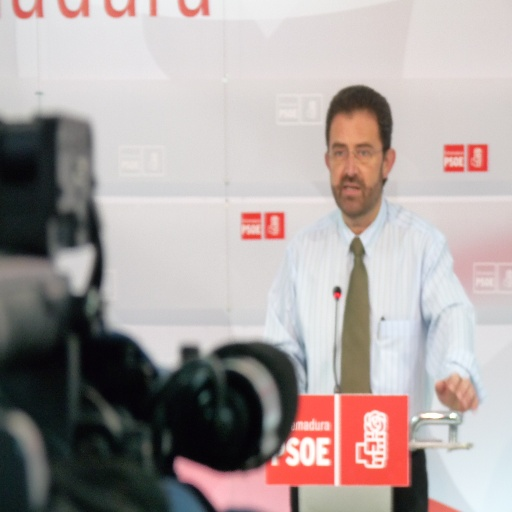hand: (432, 361, 482, 429)
